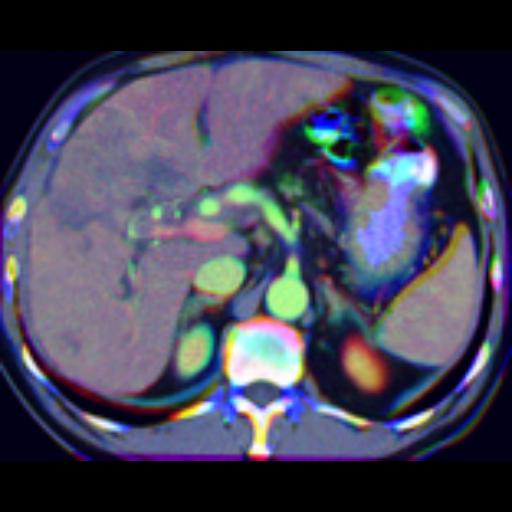Tumor: (53, 113, 185, 208)
